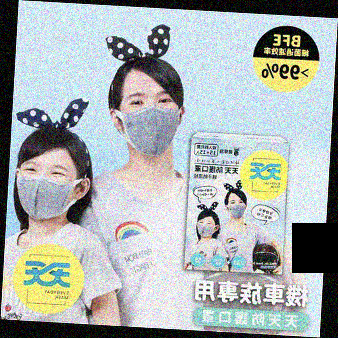with_mask: (118, 87, 180, 157), (15, 160, 75, 221)
